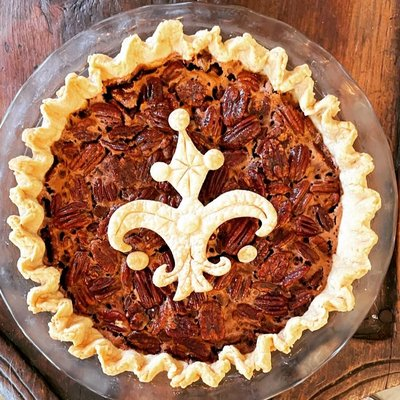curry: (2, 0, 400, 356)
sandwich: (5, 28, 393, 398)
